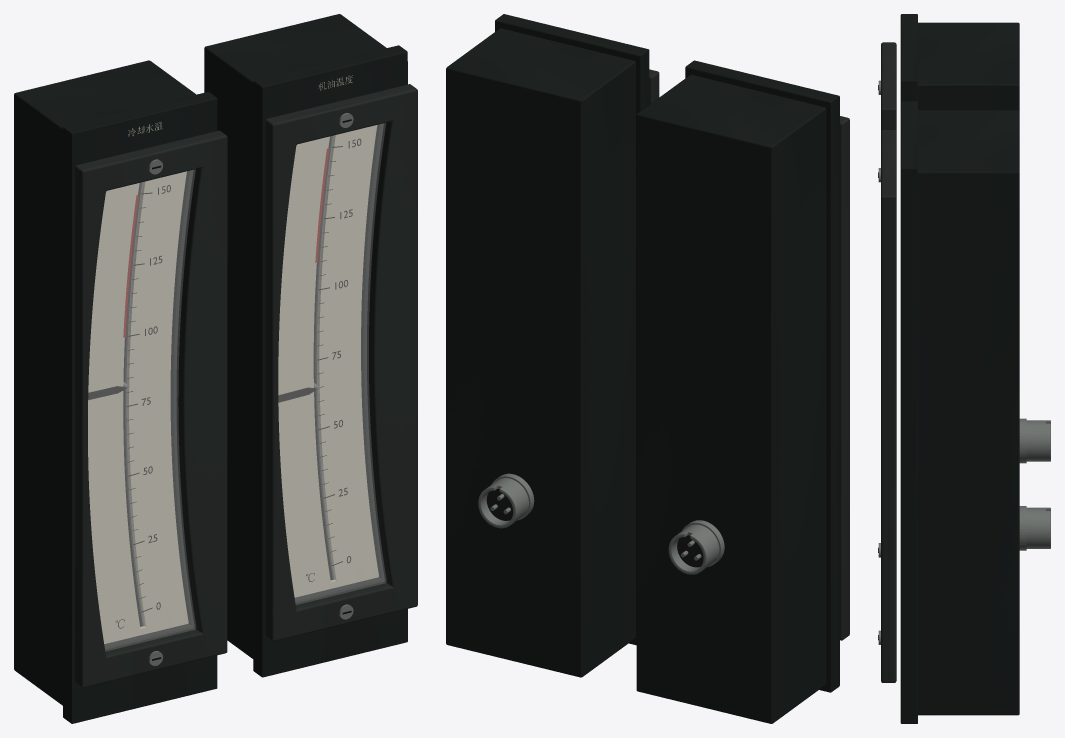
File: water_oil_temperature_gauges_refined.glb
3 renders of one model, left to right at view 1: azimuth 30°, elevation 25°; view 2: azimuth 150°, elevation 25°; view 3: azimuth 270°, elevation 25°, orthographic. The views are drawn at different scales.
Visible parts, largest first — view 1: Water_Fixed_Protective_Glass, Oil_Fixed_Protective_Glass, Water_Fixed_Raised_Metal_Bezel, Oil_Fixed_Raised_Metal_Bezel, Oil_Fixed_Scale_Window, Water_Fixed_Scale_Window, Water_Fixed_Rear_Housing, Oil_Fixed_Rear_Housing, Oil_Fixed_Front_Frame, Water_Fixed_Front_Frame, Oil_Fixed_Curved_Guide_Rail.001, Water_Fixed_Curved_Guide_Rail.001; view 2: Water_Fixed_Rear_Housing, Oil_Fixed_Rear_Housing, Water_Fixed_Front_Frame, Water_Fixed_Raised_Metal_Bezel, Oil_Fixed_Front_Frame, Water_RPM_Connector_Shell, Oil_RPM_Connector_Shell; view 3: Oil_Fixed_Rear_Housing, Oil_Fixed_Front_Frame, Water_Fixed_Rear_Housing, Oil_Fixed_Raised_Metal_Bezel, Water_Fixed_Front_Frame, Water_Fixed_Raised_Metal_Bezel, Water_RPM_Connector_Shell, Oil_RPM_Connector_Shell, Water_RPM_Rear_Connector_Seat, Oil_RPM_Rear_Connector_Seat.
Boxes of the visible parts, x1=… form: Water_Fixed_Protective_Glass: x1=88, y1=169, x2=195, y2=650; Oil_Fixed_Protective_Glass: x1=278, y1=123, x2=386, y2=604; Water_Fixed_Raised_Metal_Bezel: x1=75, y1=130, x2=227, y2=687; Oil_Fixed_Raised_Metal_Bezel: x1=265, y1=84, x2=417, y2=641; Oil_Fixed_Scale_Window: x1=278, y1=125, x2=378, y2=597; Water_Fixed_Scale_Window: x1=88, y1=171, x2=188, y2=643; Water_Fixed_Rear_Housing: x1=14, y1=60, x2=195, y2=705; Oil_Fixed_Rear_Housing: x1=204, y1=14, x2=386, y2=658; Oil_Fixed_Front_Frame: x1=253, y1=45, x2=407, y2=677; Water_Fixed_Front_Frame: x1=63, y1=92, x2=217, y2=723; Oil_Fixed_Curved_Guide_Rail.001: x1=315, y1=136, x2=334, y2=579; Water_Fixed_Curved_Guide_Rail.001: x1=125, y1=182, x2=144, y2=626; Water_Fixed_Rear_Housing: x1=636, y1=74, x2=826, y2=723; Oil_Fixed_Rear_Housing: x1=446, y1=28, x2=635, y2=677; Water_Fixed_Front_Frame: x1=685, y1=60, x2=839, y2=692; Water_Fixed_Raised_Metal_Bezel: x1=840, y1=116, x2=849, y2=640; Oil_Fixed_Front_Frame: x1=495, y1=14, x2=649, y2=645; Water_RPM_Connector_Shell: x1=668, y1=524, x2=719, y2=574; Oil_RPM_Connector_Shell: x1=478, y1=478, x2=528, y2=528; Oil_Fixed_Rear_Housing: x1=918, y1=110, x2=1019, y2=715; Oil_Fixed_Front_Frame: x1=900, y1=101, x2=917, y2=723; Water_Fixed_Rear_Housing: x1=918, y1=22, x2=1019, y2=110; Oil_Fixed_Raised_Metal_Bezel: x1=881, y1=130, x2=896, y2=682; Water_Fixed_Front_Frame: x1=900, y1=14, x2=917, y2=102; Water_Fixed_Raised_Metal_Bezel: x1=881, y1=42, x2=896, y2=131; Water_RPM_Connector_Shell: x1=1026, y1=420, x2=1050, y2=461; Oil_RPM_Connector_Shell: x1=1026, y1=507, x2=1050, y2=548; Water_RPM_Rear_Connector_Seat: x1=1019, y1=418, x2=1026, y2=463; Oil_RPM_Rear_Connector_Seat: x1=1019, y1=506, x2=1026, y2=550.
Bounding box in the file's own units: 0.106 × 0.178 × 0.0501.
Materials: 10 (3 with a texture image).
